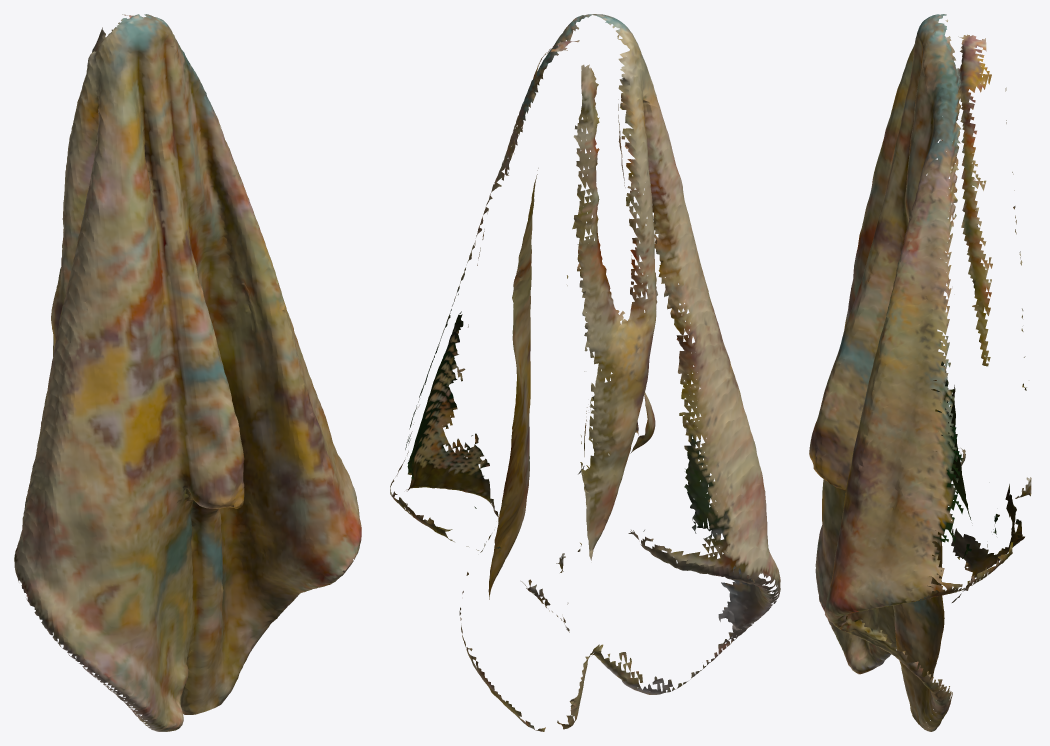
Rendered from Hanging Towel.glb.
3 views of the same model, side by side, from view 1: azimuth 30°, elevation 25°; view 2: azimuth 150°, elevation 25°; view 3: azimuth 270°, elevation 25° (orthographic). The views are drawn at different scales.
Parts seen in each view (by area): view 1: Geode; view 2: Geode; view 3: Geode.
Part boxes in pixels (x1,y1,x2,y2): Geode: (14,14,361,731); Geode: (390,14,780,731); Geode: (809,14,1031,731).
Bounding box in the file's own units: 0.2375 × 0.474 × 0.1432.
